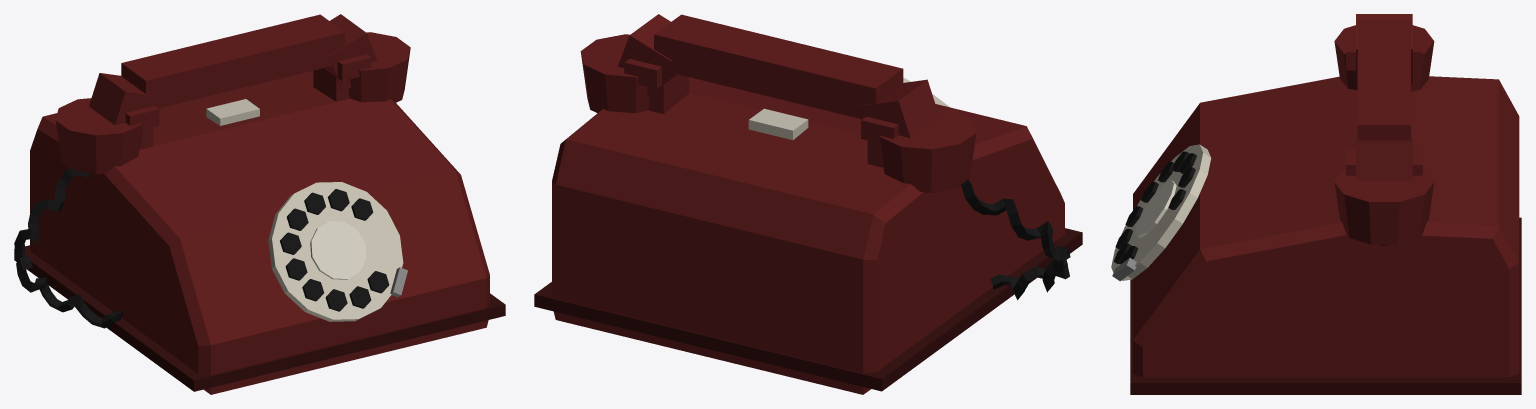
The model's file is telefoon.glb.
The picture shows the model from 3 angles, left to right: view 1: azimuth 30°, elevation 25°; view 2: azimuth 150°, elevation 25°; view 3: azimuth 270°, elevation 25°; orthographic projection. The views are drawn at different scales.
Visible parts, largest first — view 1: Body, Handset, Dial; view 2: Body, Handset; view 3: Body, Handset, Dial.
Boxes of the visible parts, x1,y1,x2,y2 form: Body: [14, 54, 505, 394]; Handset: [55, 14, 410, 174]; Dial: [268, 182, 407, 321]; Body: [534, 59, 1082, 394]; Handset: [580, 14, 976, 192]; Body: [1130, 37, 1521, 394]; Handset: [1334, 14, 1434, 245]; Dial: [1111, 144, 1211, 281].
Bounding box in the file's own units: 0.3072 × 0.165 × 0.2466.
